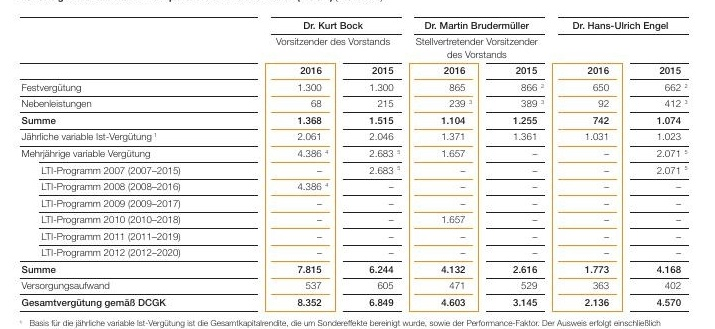table: (0, 0, 715, 329)
